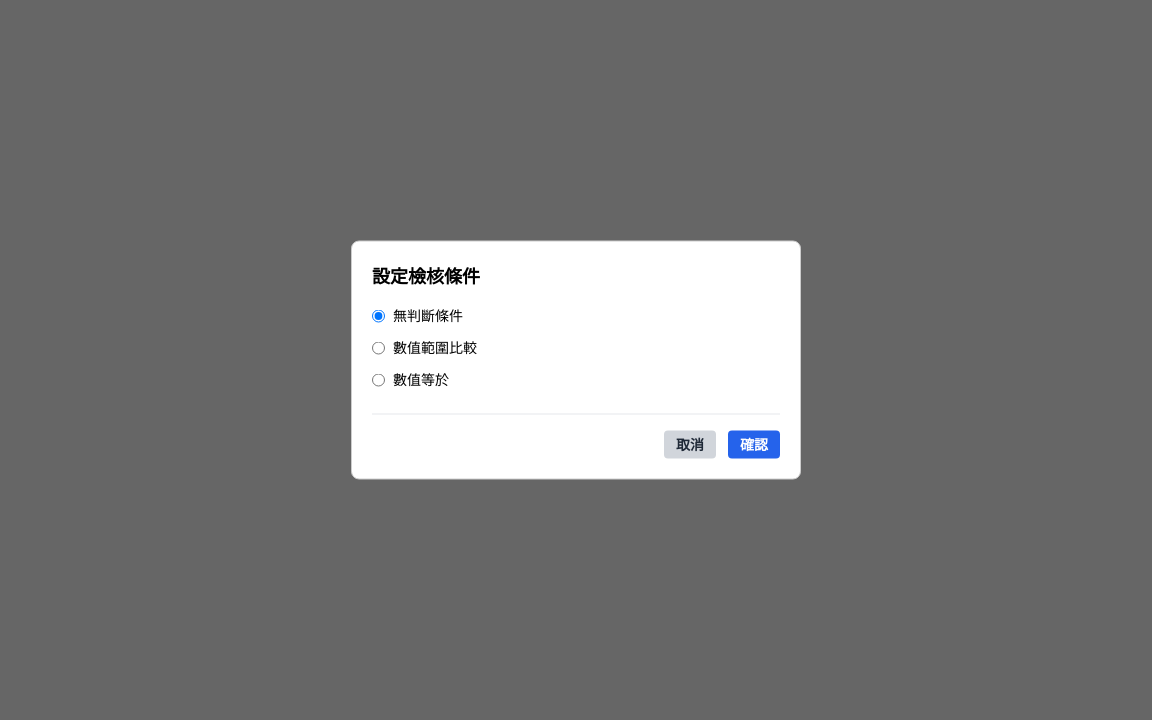
Test: ValidationRuleModal Component › 選項切換 › 選擇數值等於時應該顯示等值輸入欄
The image size is (1152, 720).
Click the radio button labelled "數值等於" at (378, 380), box [372,373,385,386]
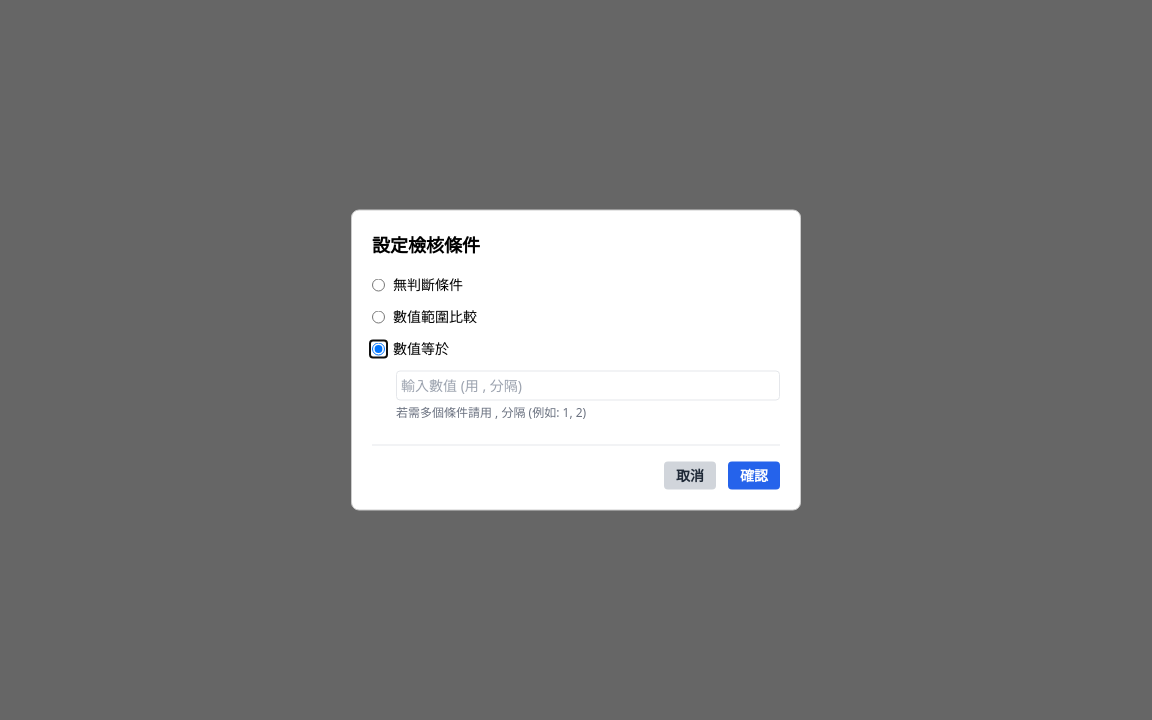
Expected: the radio button labelled "數值等於" is checked, [372,342,385,355]
Expected: the field with placeholder "輸入數值 (用 , 分隔)" is shown, [396,370,780,400]
Expected: the text "若需多個條件請用 , 分隔 (例如: 1, 2)" is shown, [396,404,586,420]
